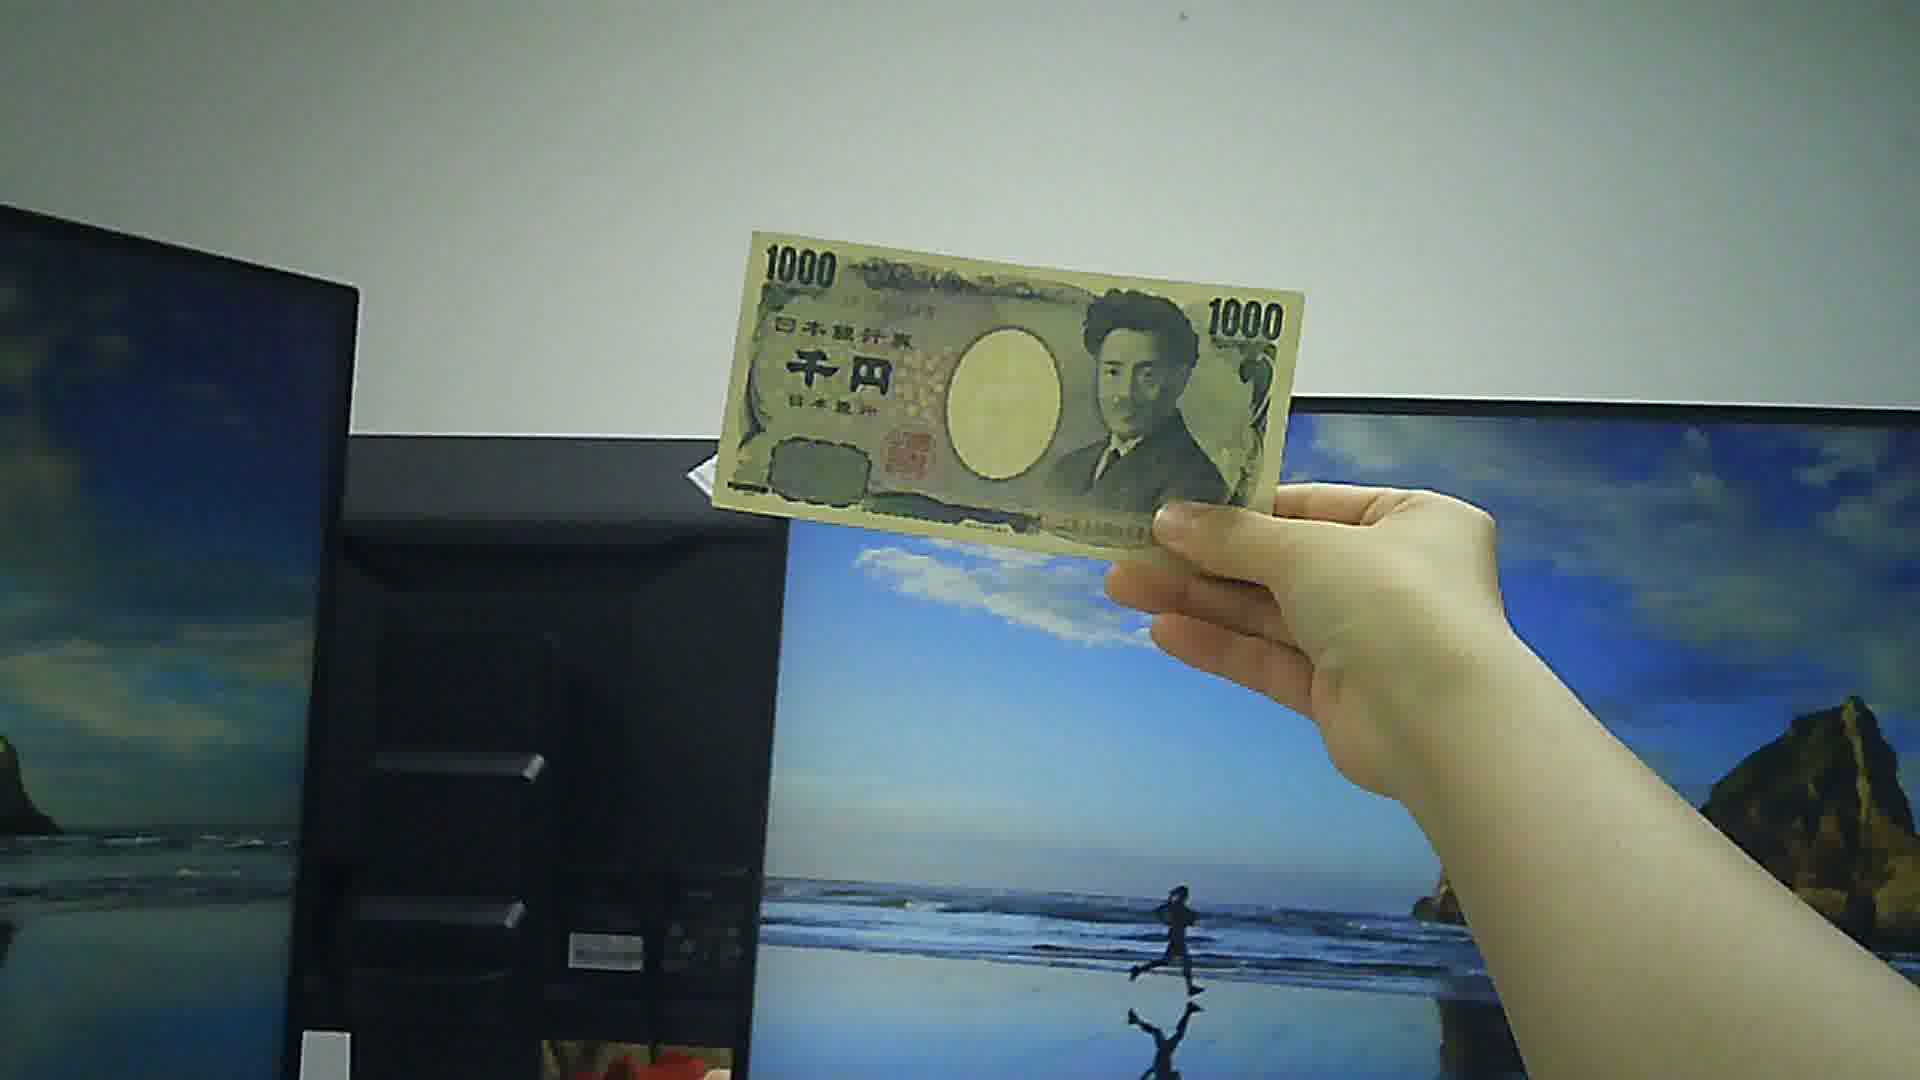1,000 Yen: (709, 220, 1302, 574)
